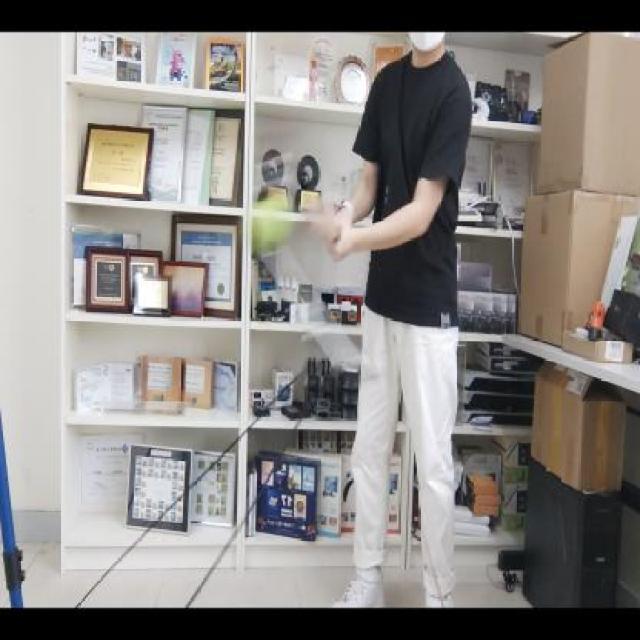baseball: (240, 187, 291, 256)
